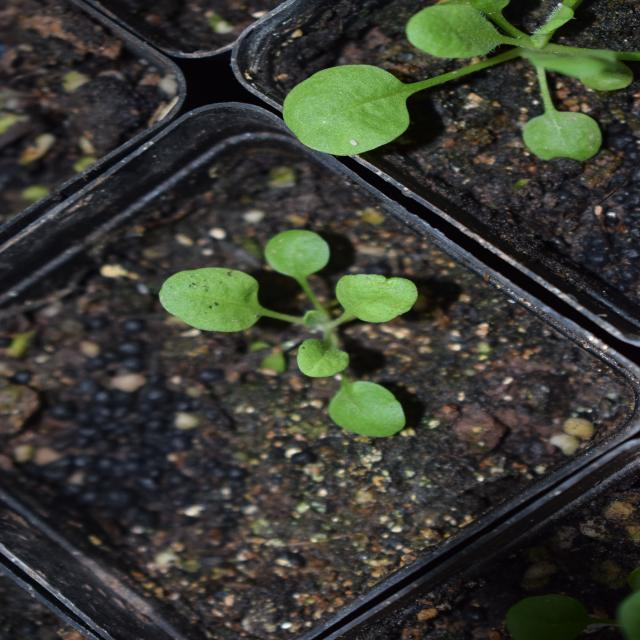Shepherd_Purse: (193, 178, 414, 433), (473, 275, 636, 607)
